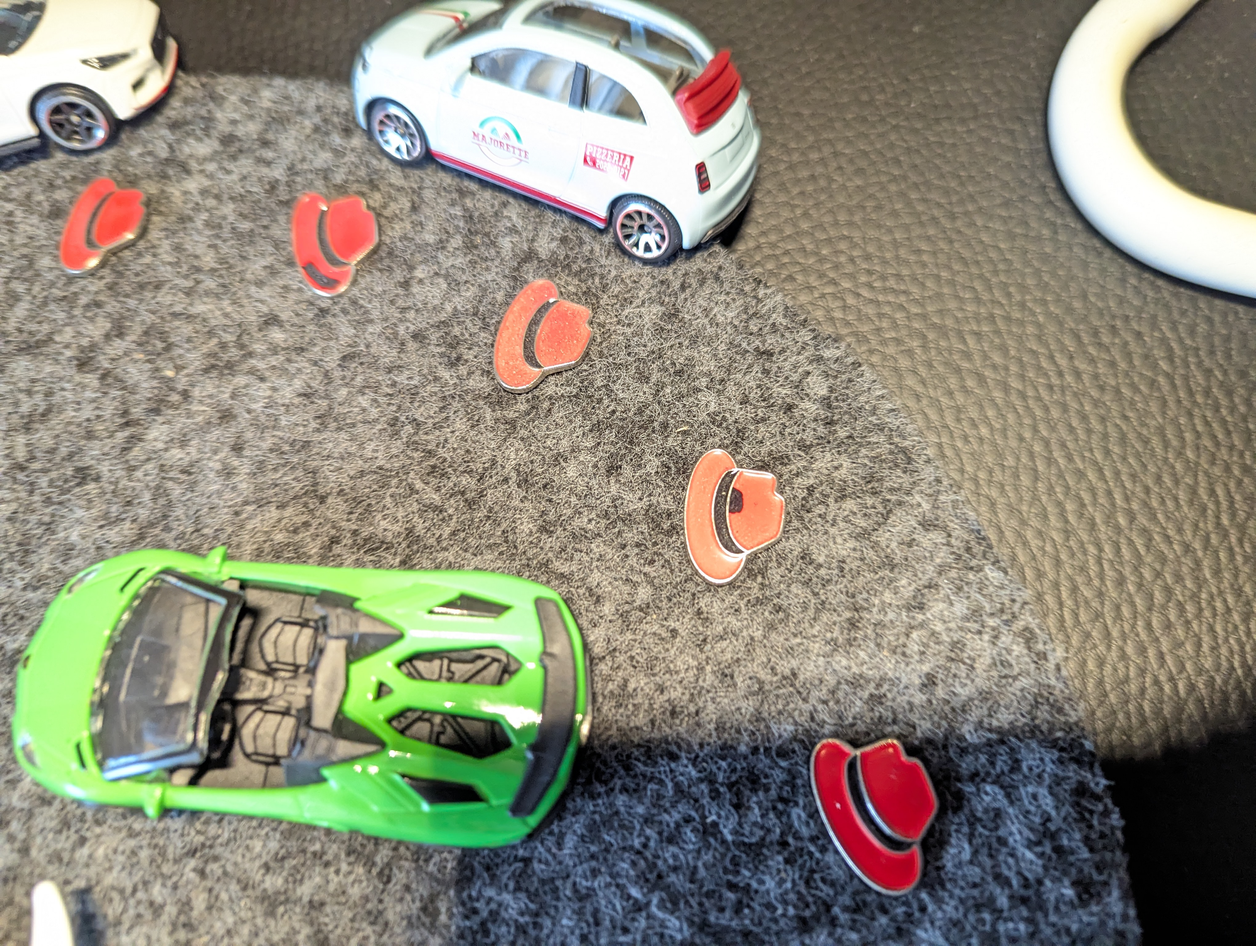Car: (6, 534, 614, 872), (335, 0, 766, 290), (0, 0, 194, 162)
Red-Hat: (794, 701, 955, 916), (673, 424, 801, 621), (475, 246, 619, 406), (276, 164, 387, 322), (49, 168, 162, 284)
Scratch: (282, 246, 358, 303), (718, 476, 754, 533)
